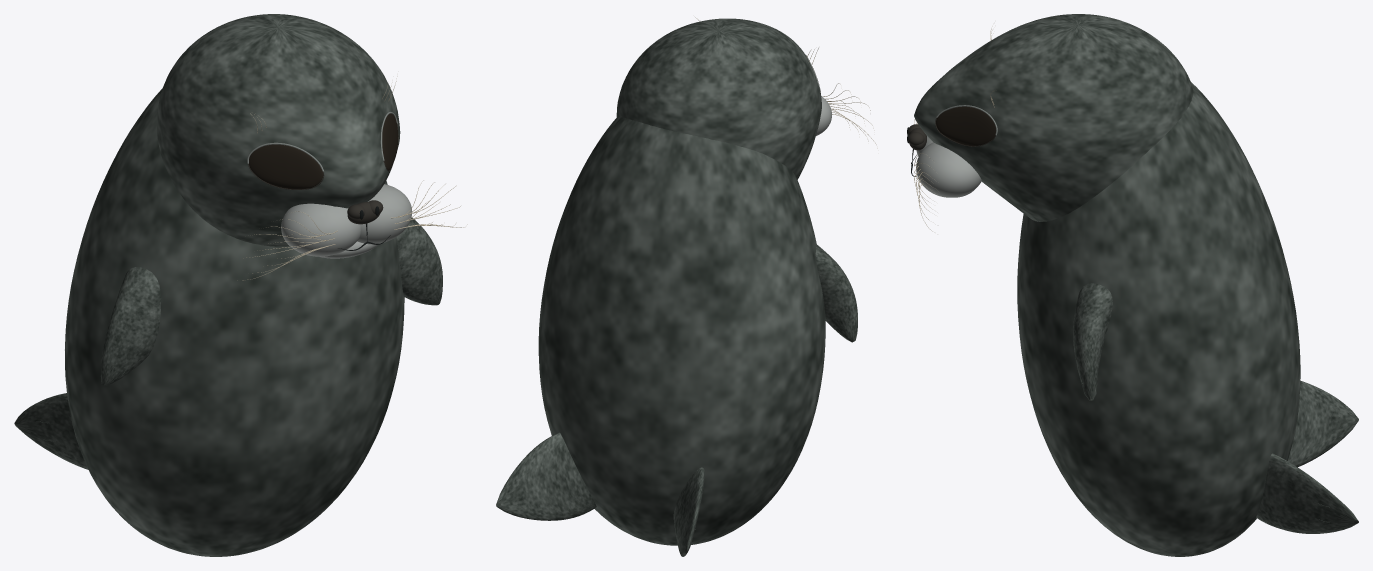
Rendered from seal-grey-adult.glb.
3 views of the same model, side by side, from view 1: azimuth 30°, elevation 25°; view 2: azimuth 150°, elevation 25°; view 3: azimuth 270°, elevation 25° (orthographic). The views are drawn at different scales.
Parts seen in each view (by area): view 1: Body sculpted torpedo torso, Sculpted face and sensory whiskers, Webbed flipper (×3), Wet almond eye (×2); view 2: Body sculpted torpedo torso, Sculpted face and sensory whiskers, Webbed flipper (×3); view 3: Body sculpted torpedo torso, Sculpted face and sensory whiskers, Webbed flipper (×3), Wet almond eye.
Part boxes in pixels (bbox=[...]): Body sculpted torpedo torso: bbox=[65, 88, 404, 556]; Sculpted face and sensory whiskers: bbox=[157, 14, 467, 280]; Webbed flipper (×3): bbox=[14, 217, 442, 469]; Wet almond eye (×2): bbox=[249, 113, 398, 189]; Body sculpted torpedo torso: bbox=[538, 117, 825, 545]; Sculpted face and sensory whiskers: bbox=[616, 17, 877, 179]; Webbed flipper (×3): bbox=[496, 244, 857, 556]; Body sculpted torpedo torso: bbox=[1017, 82, 1300, 556]; Sculpted face and sensory whiskers: bbox=[907, 14, 1193, 231]; Webbed flipper (×3): bbox=[1073, 283, 1358, 533]; Wet almond eye: bbox=[936, 106, 996, 146].
Size of the model in its own units: 1.88 by 2.94 by 2.32.
Materials: 7 (1 with a texture image).
